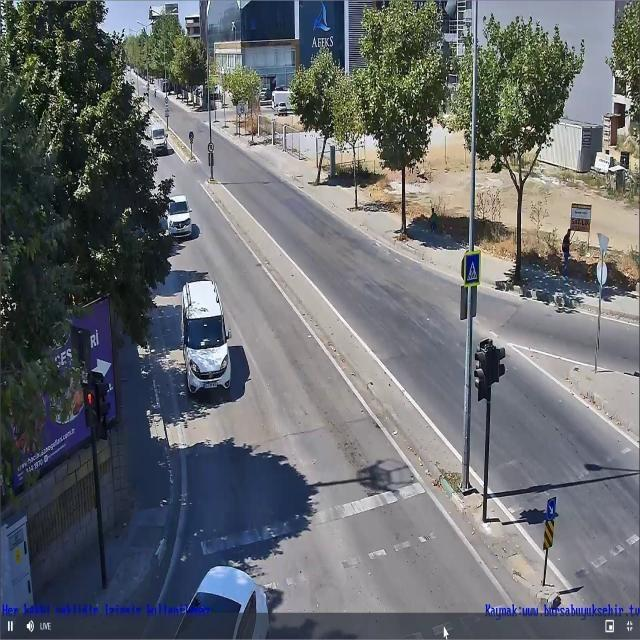Car: (169, 567, 268, 640), (178, 279, 235, 397), (165, 194, 194, 239), (259, 88, 271, 101)
Van: (149, 124, 169, 155), (271, 90, 296, 112)
